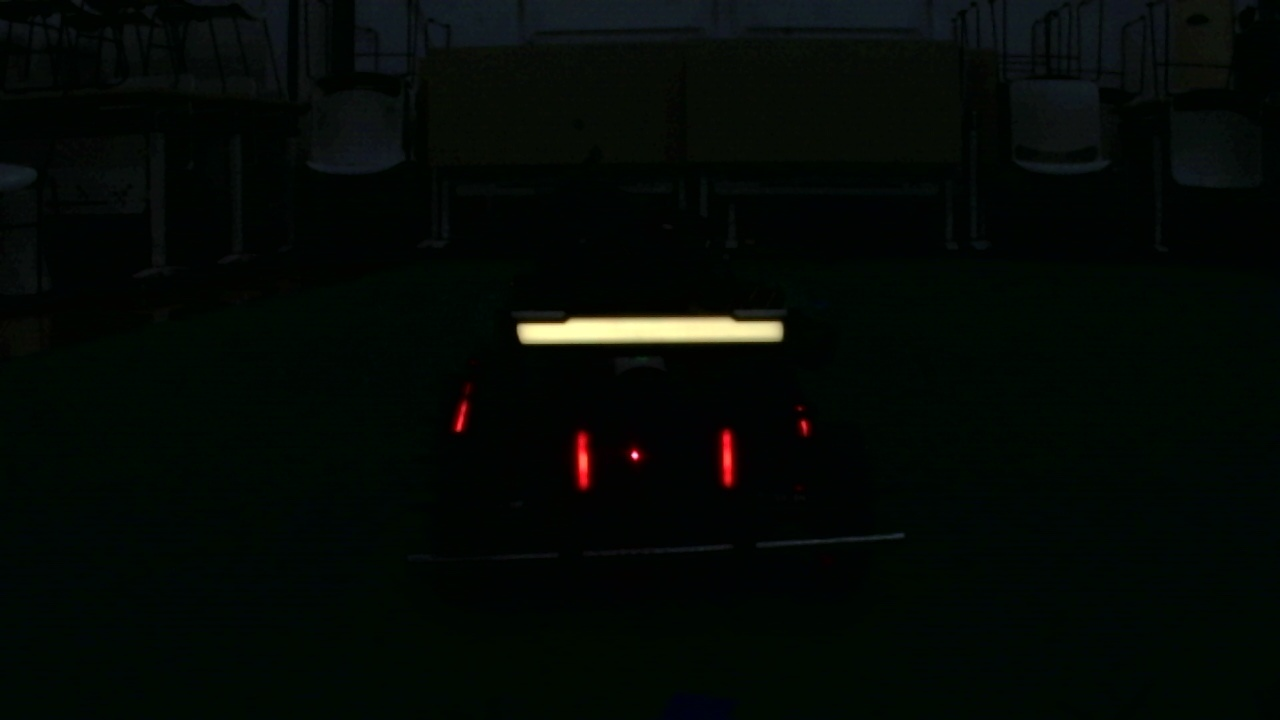lamp: (566, 424, 601, 495), (720, 420, 733, 491), (447, 399, 469, 435)
notpair1: (448, 384, 595, 497)
pair1: (575, 426, 735, 492)
